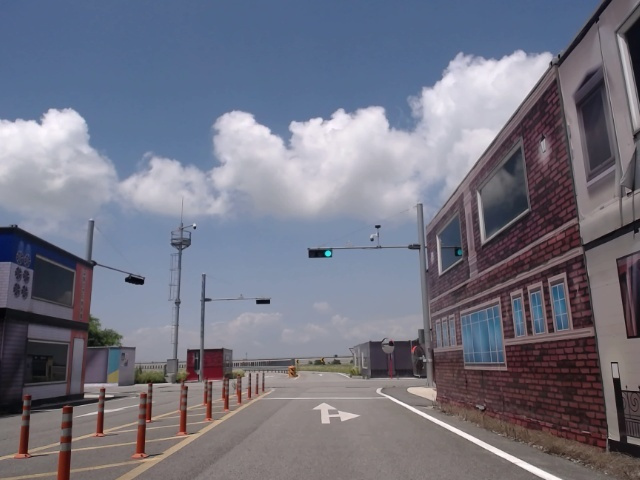green_3: (310, 250, 332, 257)
